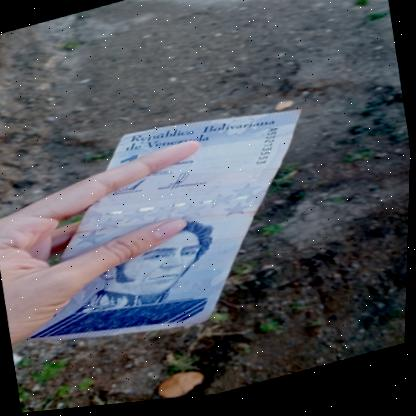ten-front-vef: (0, 91, 335, 374)
